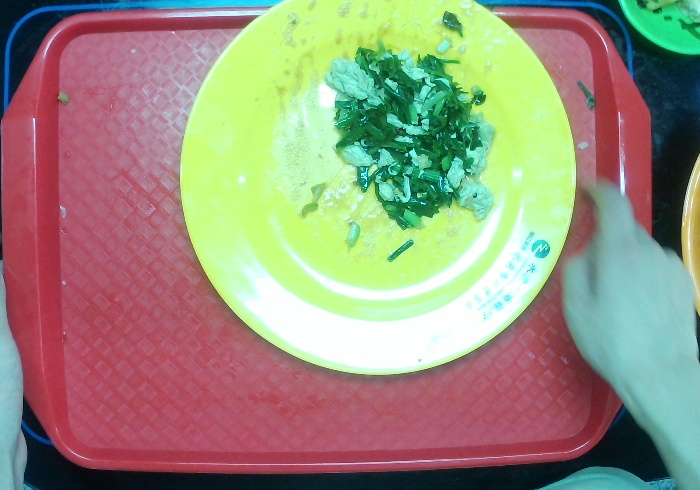YKMZ-Huang_Se_Mian_Pan: (166, 1, 585, 397)
